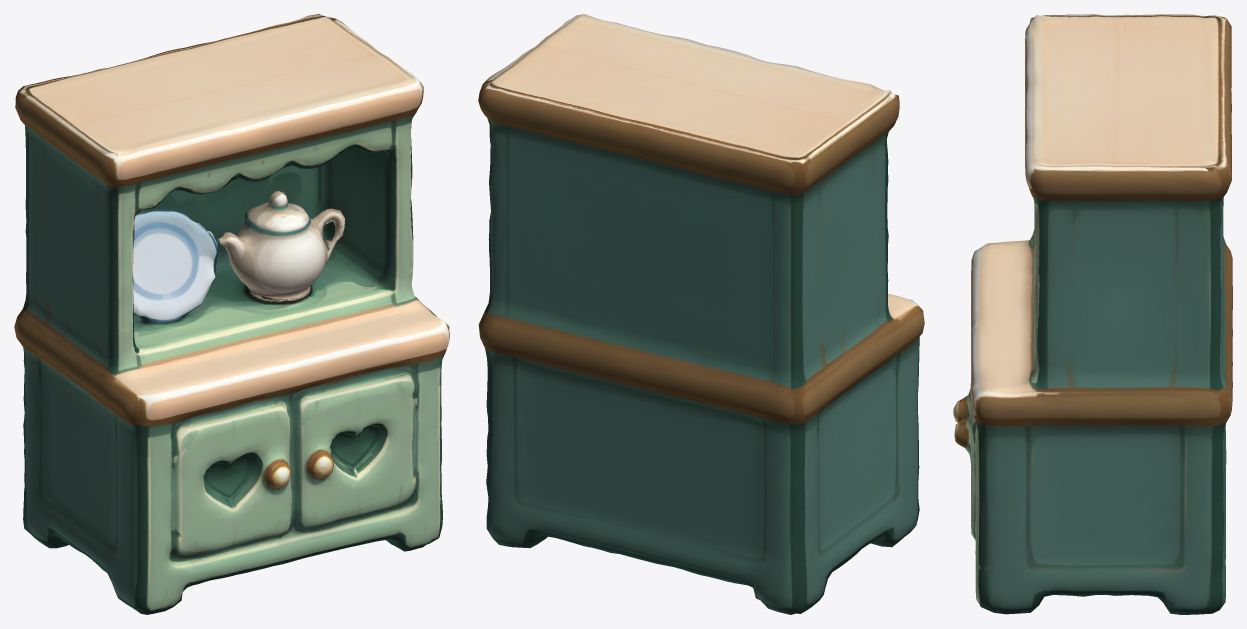
Rendered from Green_Cabinet.glb.
3 renders of one model, left to right at view 1: azimuth 30°, elevation 25°; view 2: azimuth 150°, elevation 25°; view 3: azimuth 270°, elevation 25°, orthographic. The views are drawn at different scales.
Parts seen in each view (by area): view 1: RETOPO; view 2: RETOPO; view 3: RETOPO.
Part boxes in pixels (<box>): RETOPO: <box>14,14,449,614</box>; RETOPO: <box>478,14,924,614</box>; RETOPO: <box>953,14,1232,614</box>.
Bounding box in the file's own units: 0.6745 × 0.9008 × 0.5023.
Materials: 1 (1 with a texture image).
